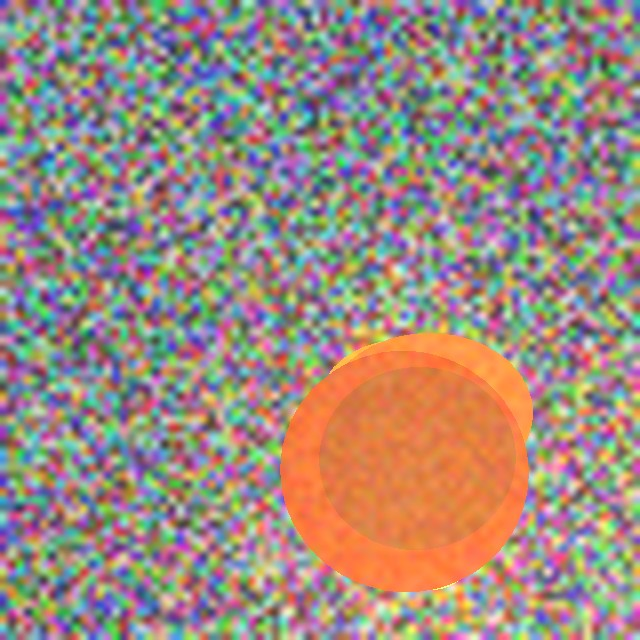fire: (297, 380, 553, 564)
